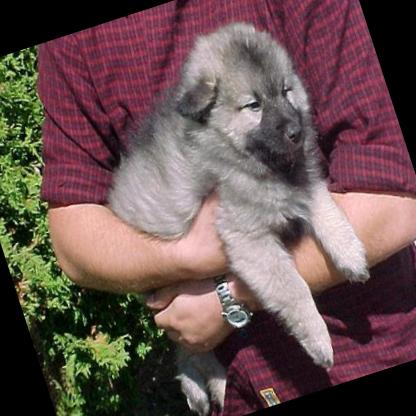keeshond: (65, 8, 396, 416)
